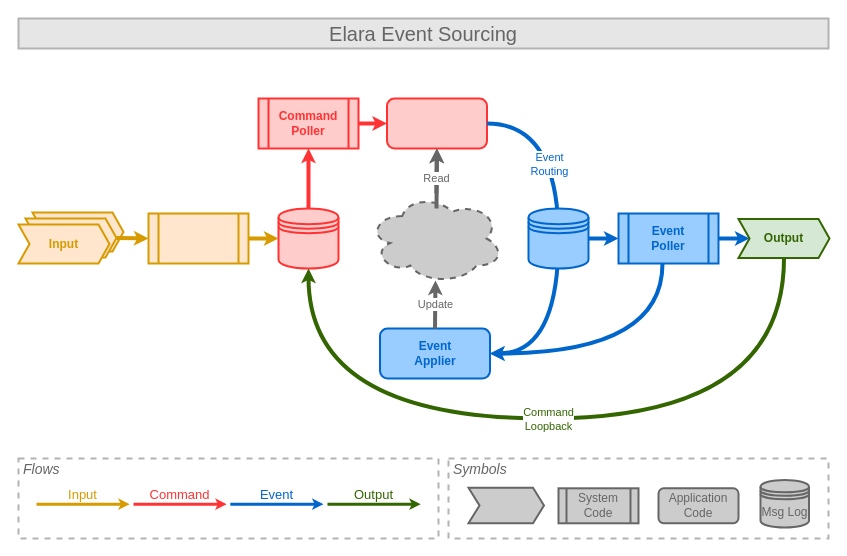
Image size: 847x556. Some labels were removed from this diagram. Each missing label, with the centre of its shape:
"Adapter" belongs at pixel 505 505.
"Command Log" belongs at pixel 308 238.
"Command Processor" belongs at pixel 437 123.
"Event Log" belongs at pixel 558 238.
"Input Sequencer" belongs at pixel 198 238.
"Transient Application State" belongs at pixel 435 238.
